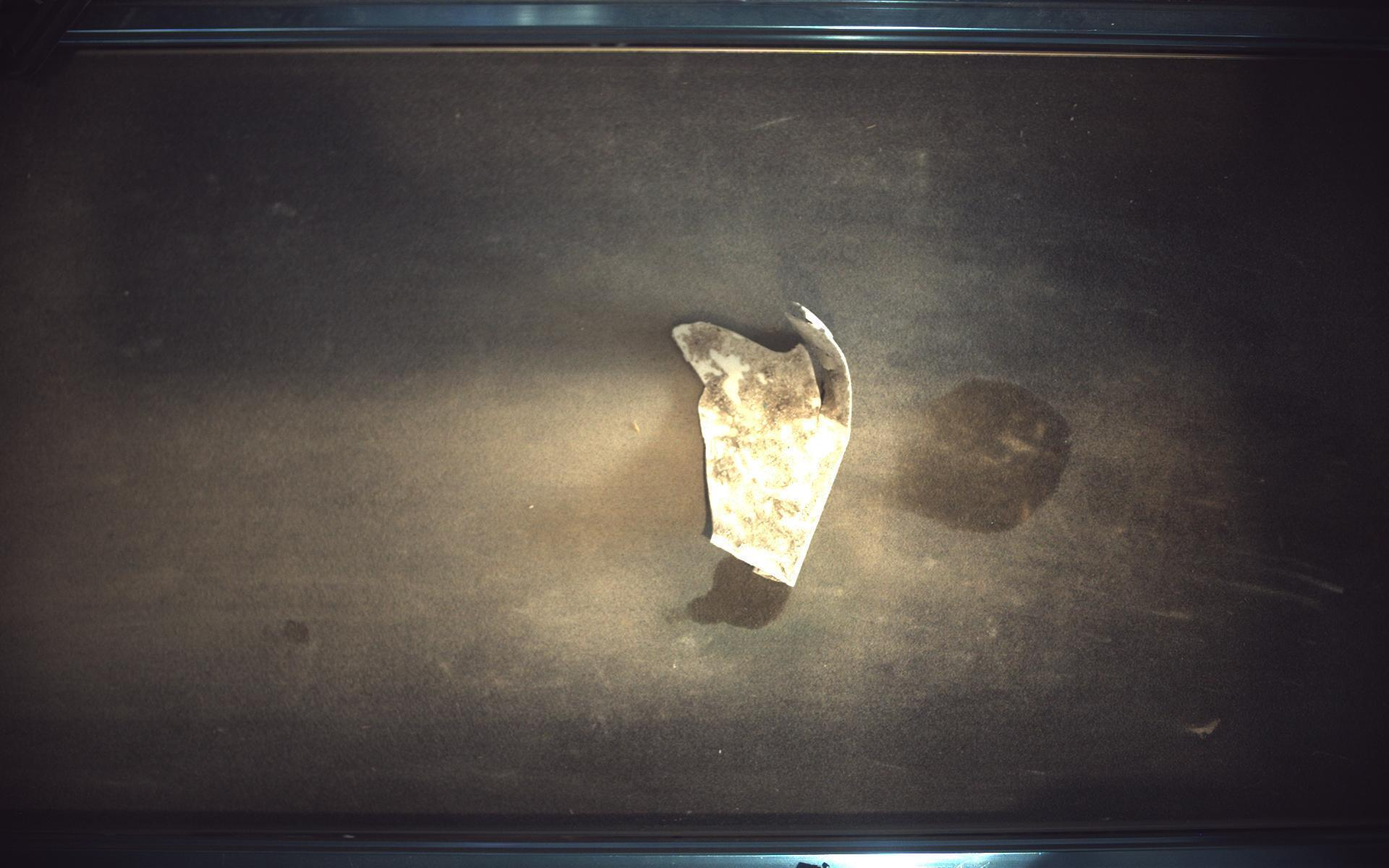plastic: (674, 304, 854, 587)
